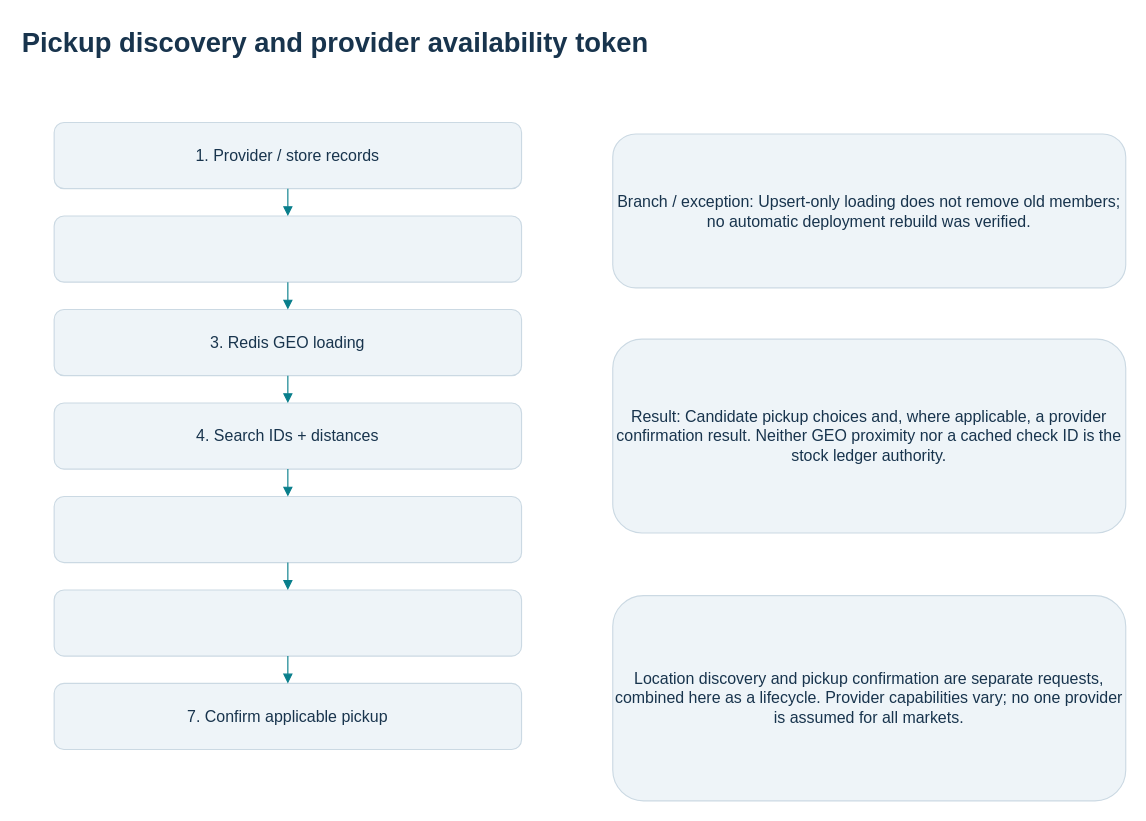
The diagram is 1146 pixels wide and 821 high, and some of its shapes have lost their labels. Each missing label, with the centre of its shape:
"2. DynamoDB normalization" goes at point (287, 248).
"5. Hydrate + enrich candidates" goes at point (287, 529).
"6. Save short-lived provider ID" goes at point (287, 622).
